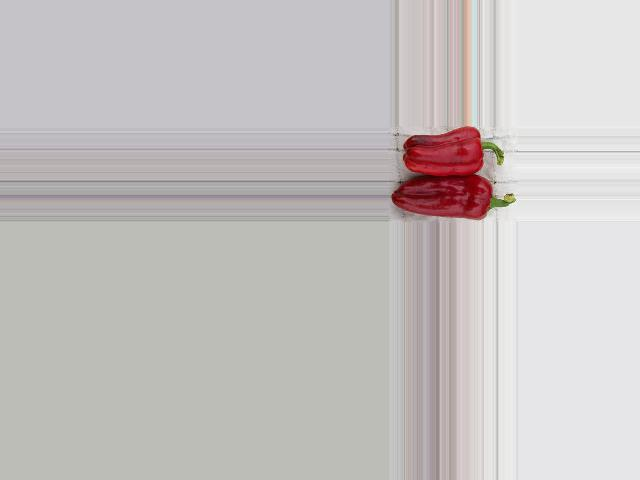bell_pepper: (391, 173, 519, 219)
